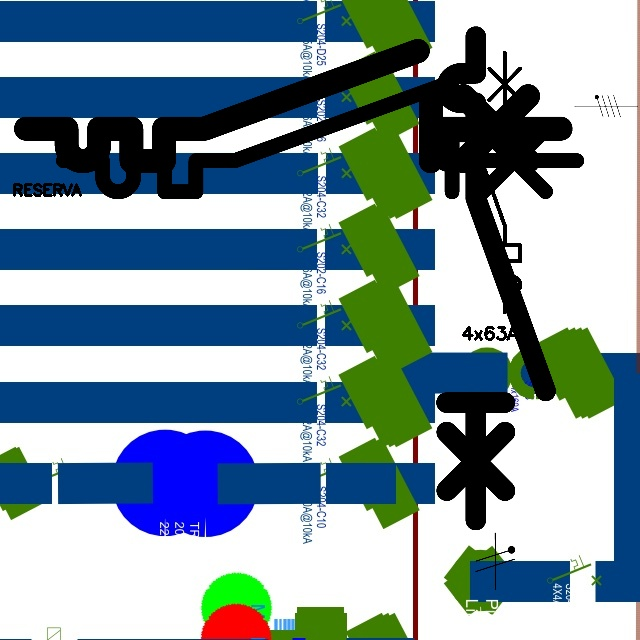interruptor_termomagnetico: (12, 37, 574, 175), (50, 73, 590, 205), (434, 24, 558, 532), (461, 46, 527, 319)
